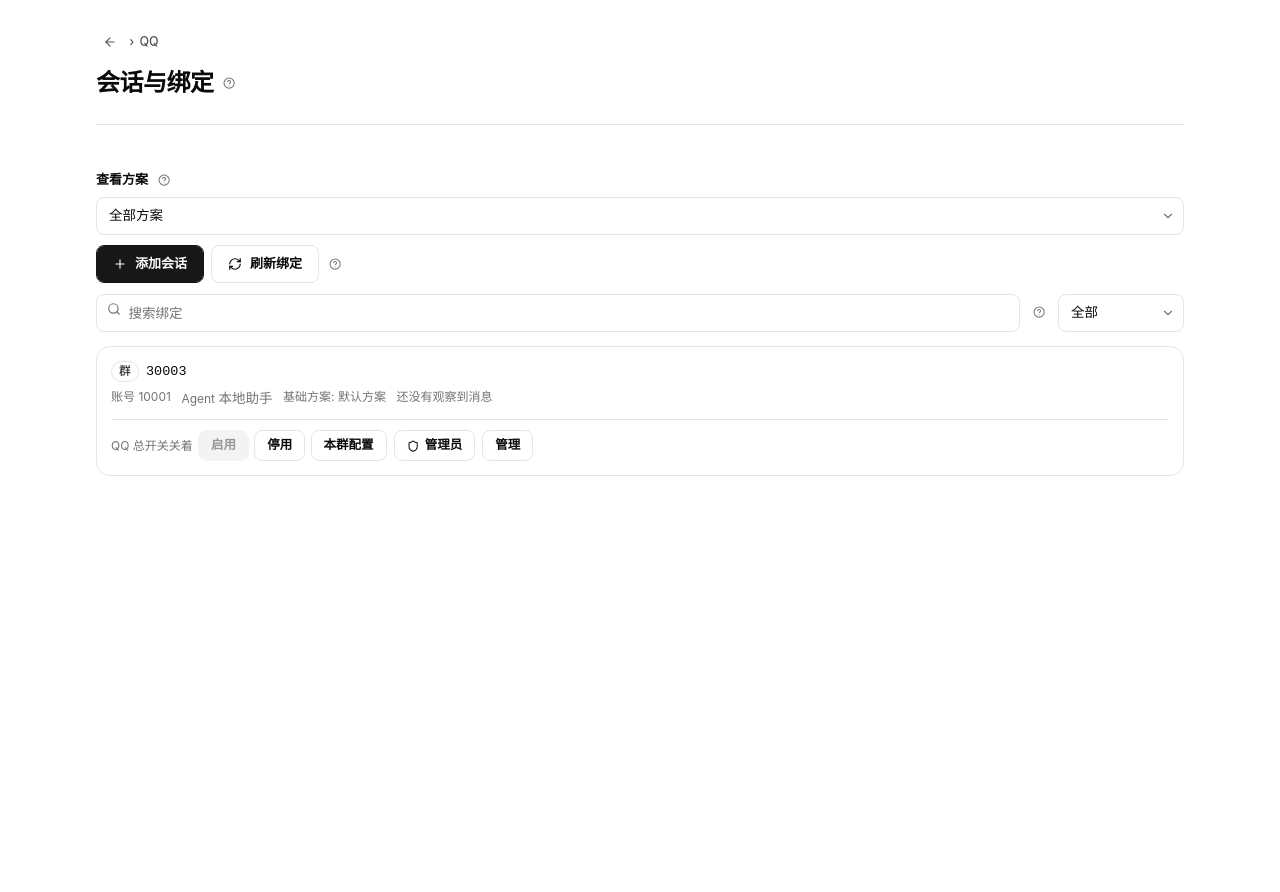
it: QQ Admin Navigation & Integration › spies scrollIntoView directly targeting administrators section from group directory
The image size is (1280, 892).
// 统一目录读取在挂载时进行，缓存 loaded 快照会被「读取中/未知」重置：等真实落定再断言。
Click the button "管理员": {"x": 434, "y": 446} [394,430,475,461]
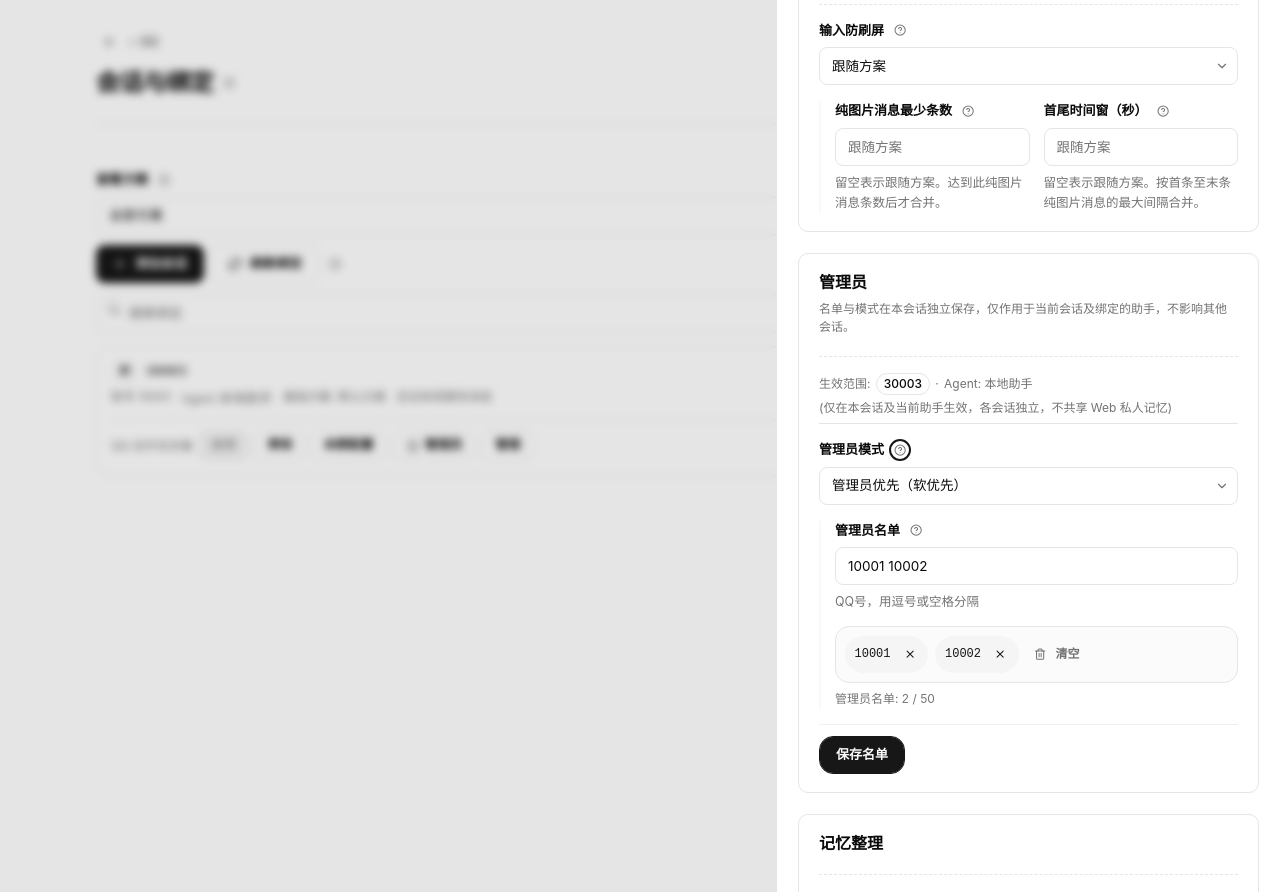
Expected: the text "生效范围:" is shown, [819,376,870,392]
Expected: the text "Agent: 本地助手" is shown, [944,376,1032,392]
Expected: the element with test id "admin-badge-10001" is shown, [845,636,928,673]
